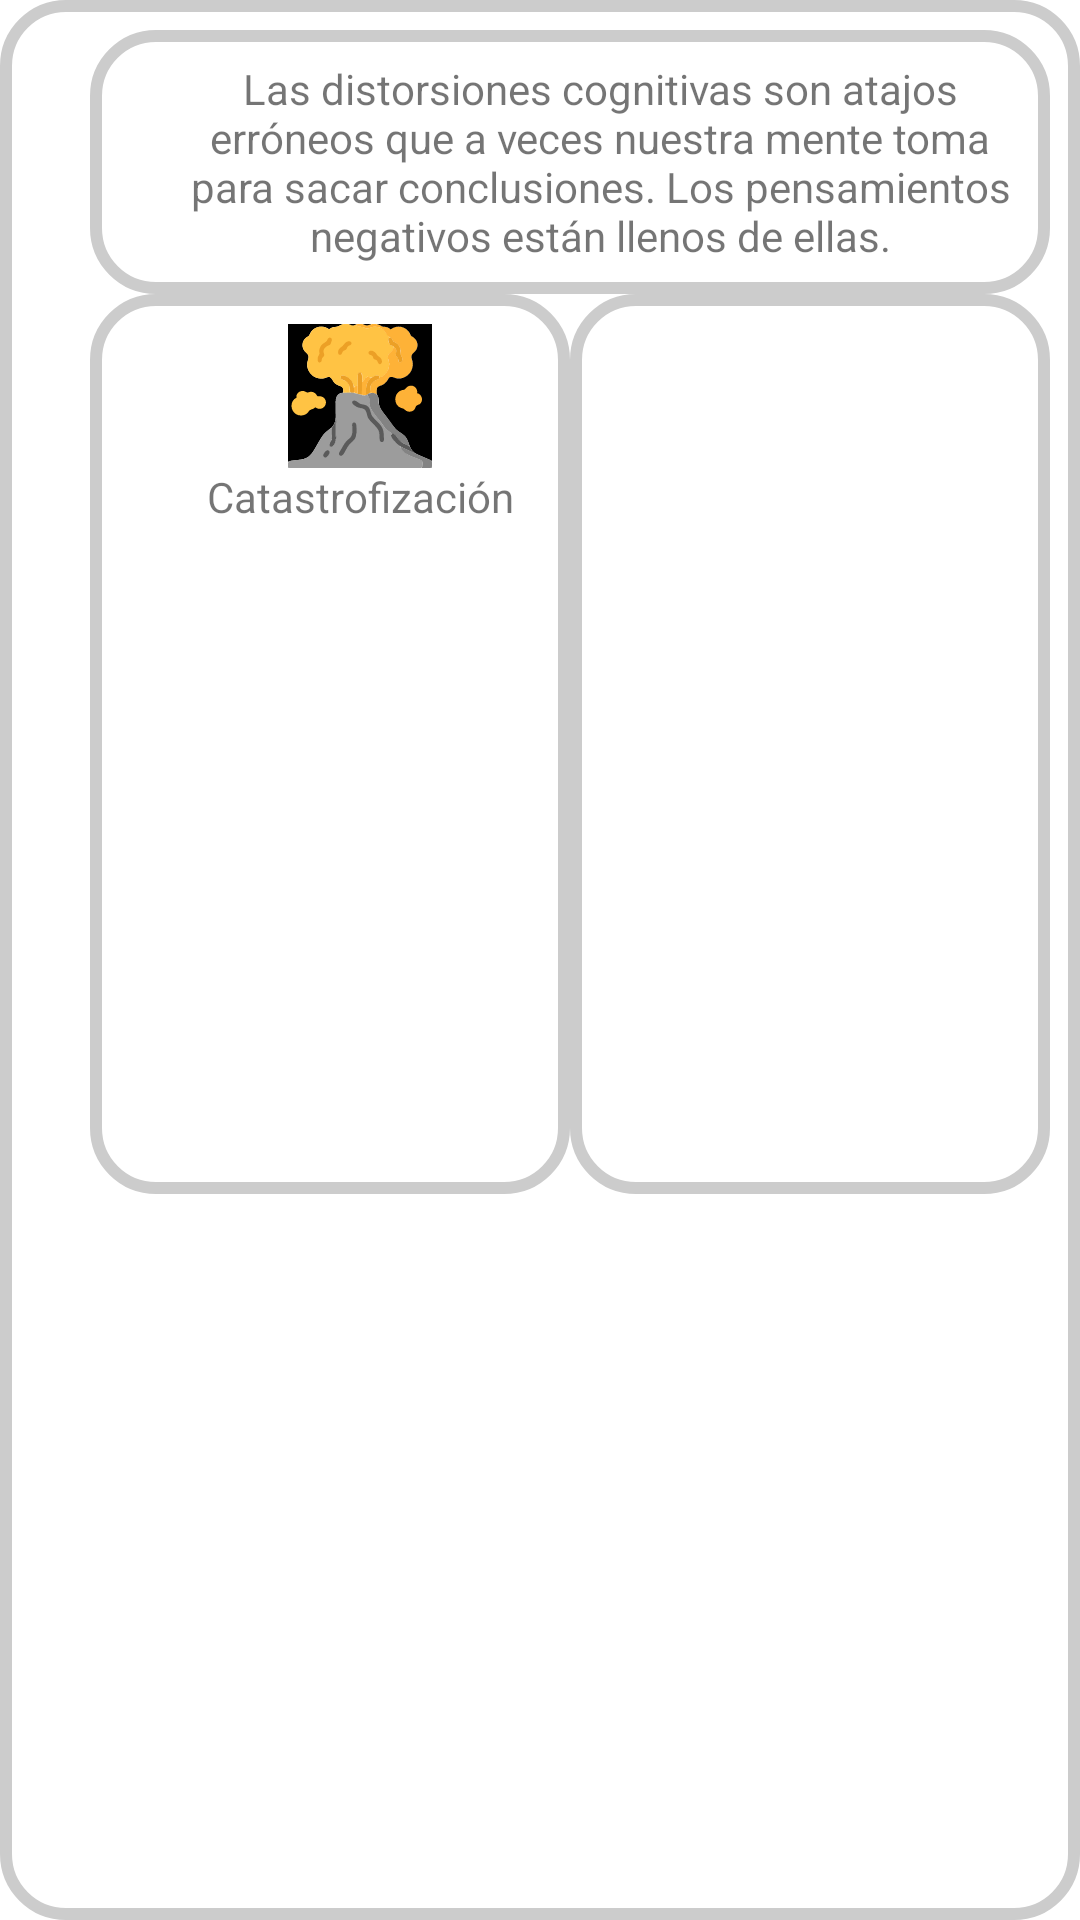

Icon click points for this 1080px x 1920px phone screenshot, format (x,y):
volcan: (360,396)
